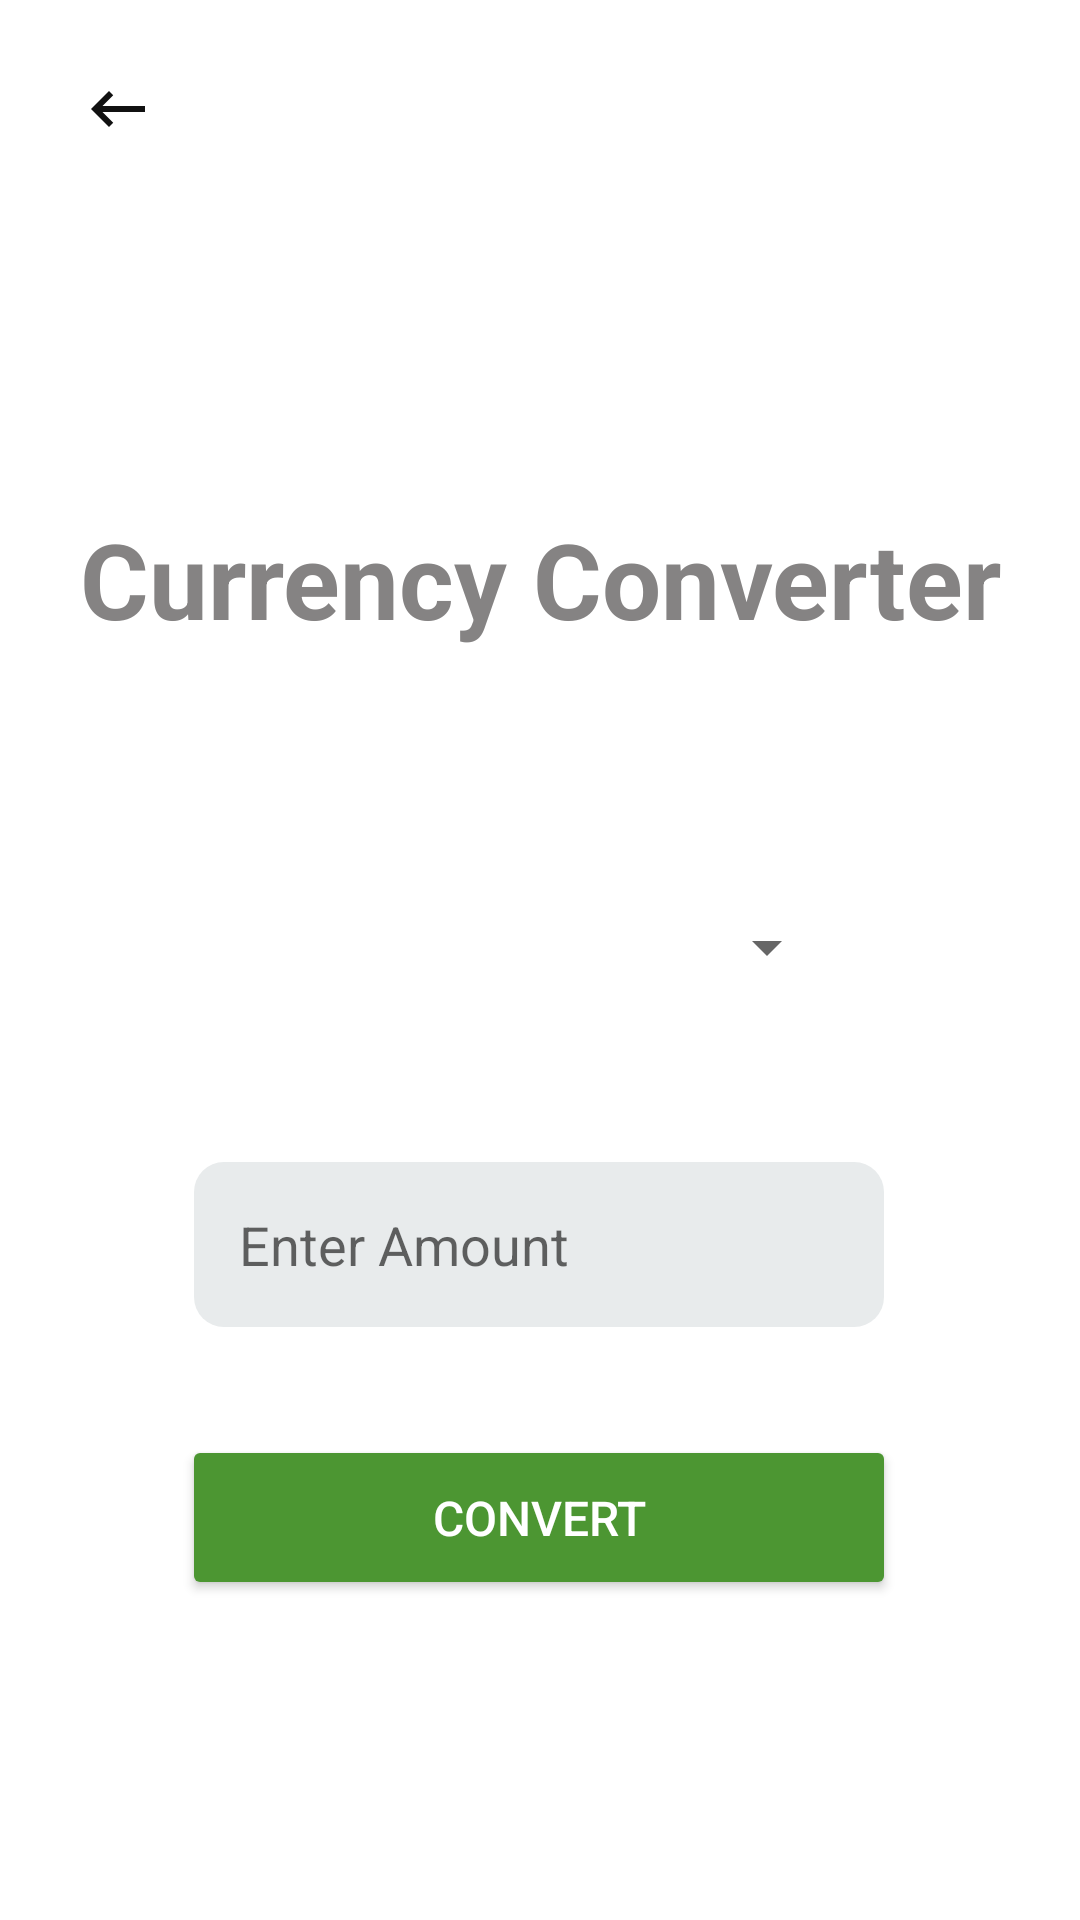

Where to tap for icons on this 1080 × 1920 app screen, as (x=x, y=y):
back: (x=118, y=109)
